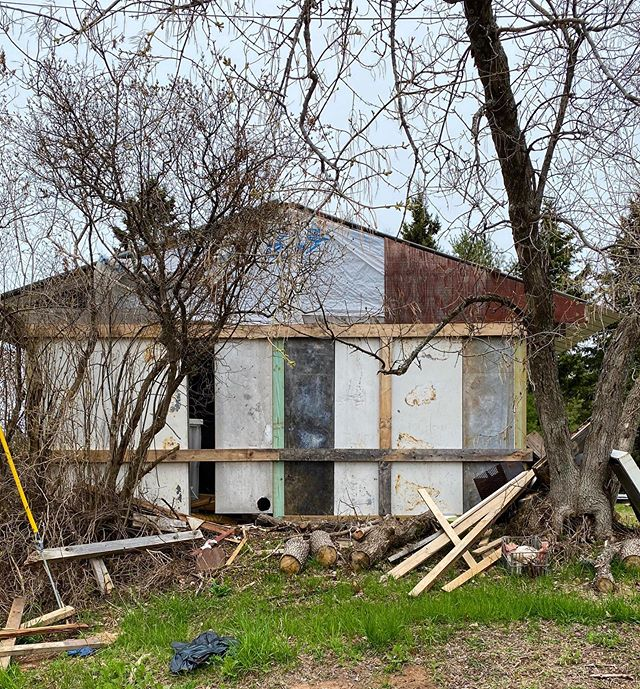building: (22, 201, 575, 558)
trash: (1, 434, 573, 663)
tree: (1, 74, 347, 582)
